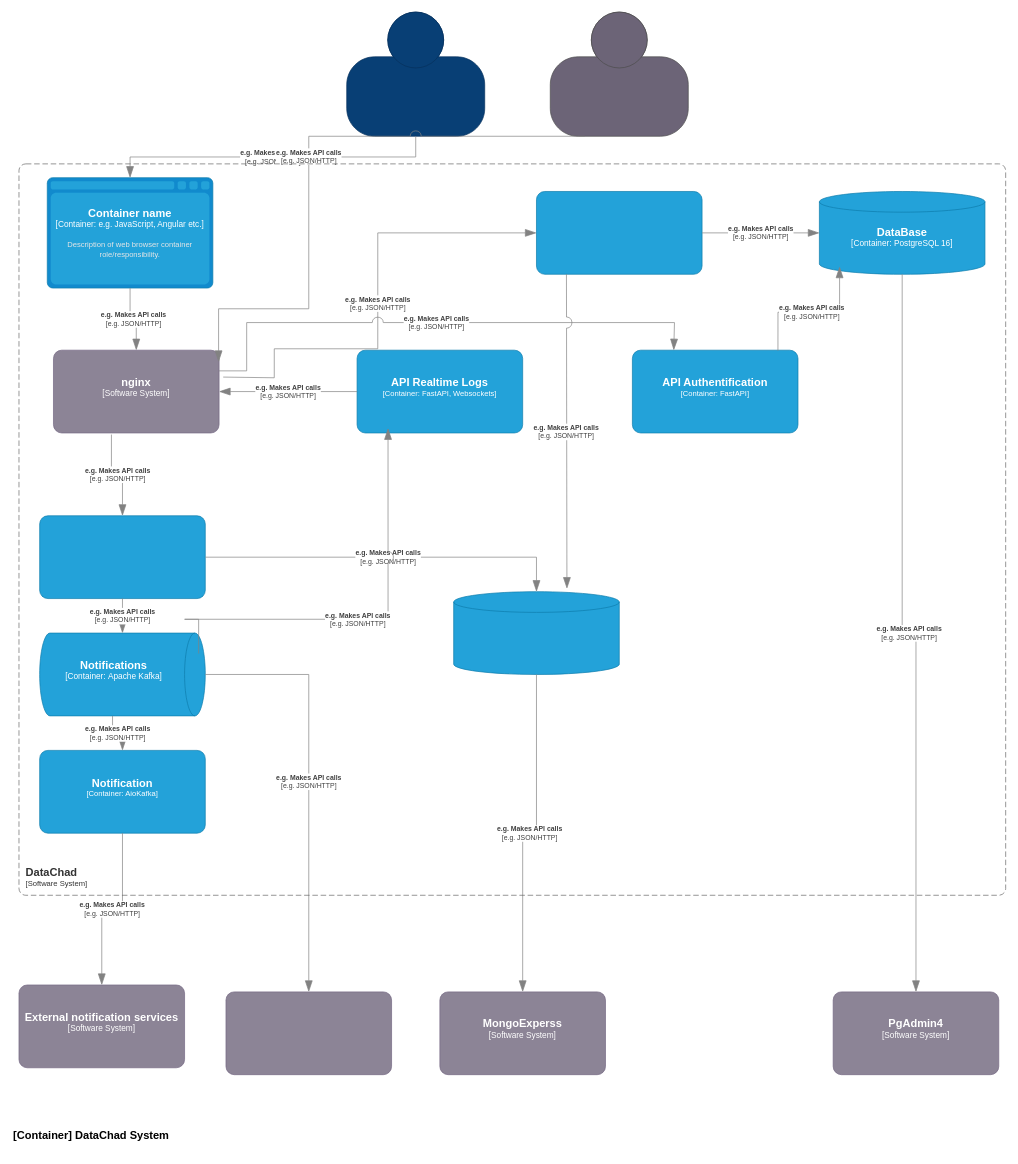
The diagram is 1018 pixels wide and 1164 high, and some of its shapes have lost their labels. The shapes that lost their labels are listed below. From the top down, each one's box as (x1, y1, x2, y2) in pixels, then its label:
(346, 11, 485, 136): User`s personal cabinet [Person]
(550, 11, 688, 136): User`s program [Person]
(536, 191, 702, 274): API Personal Cabinet [Container: FastAPI]
(39, 515, 205, 599): API Logs [Container: FastAPI]
(453, 591, 619, 674): Logs storage [Container: MongoDB 7]
(225, 991, 392, 1075): Zookepeer [Software System]
